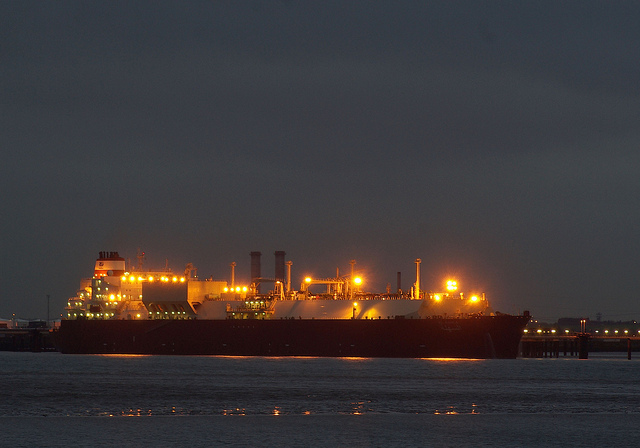LNG_ship: (47, 251, 538, 360)
